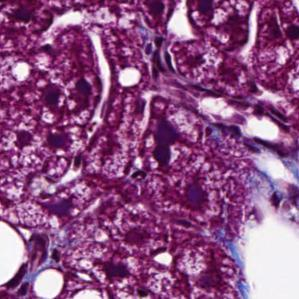inflammation: (227, 95, 294, 132), (38, 75, 98, 114), (139, 37, 180, 74), (5, 262, 36, 297)
